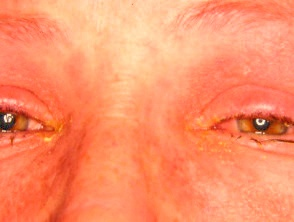SJS-TEN: (178, 99, 249, 170), (26, 110, 81, 147)
